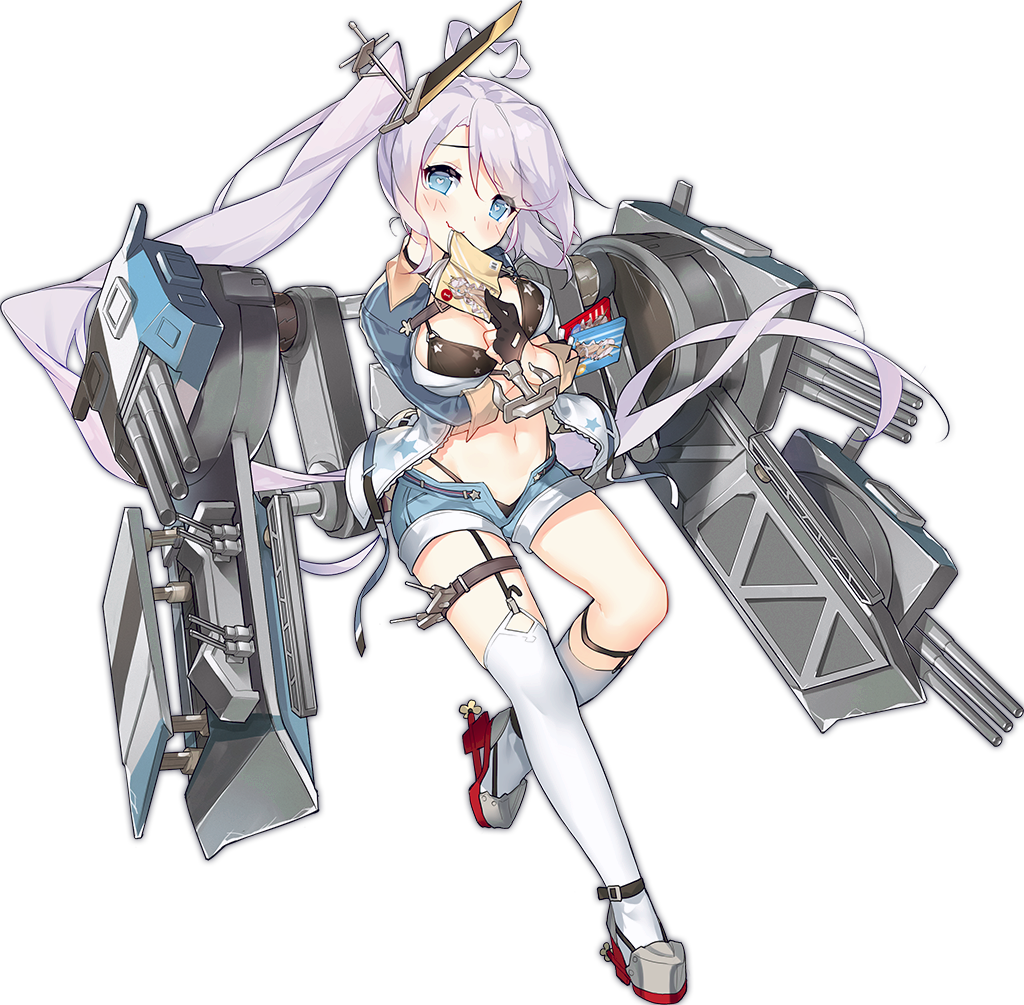person: (200, 57, 711, 869)
